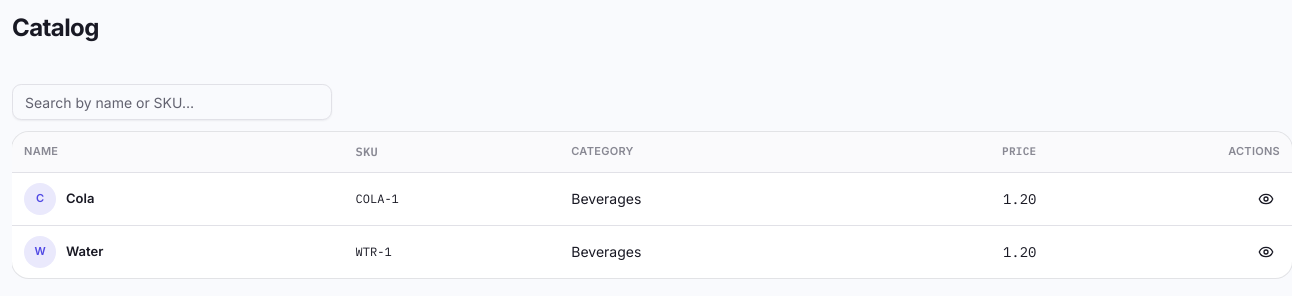
it: CatalogPage (staff, read-only list) › filters the list by name or SKU via client-side search
Expected: the text "Cola" is shown, [66,189,94,208]
In the field labelled "Search": (172, 102) [12,84,332,120], type "wtr"
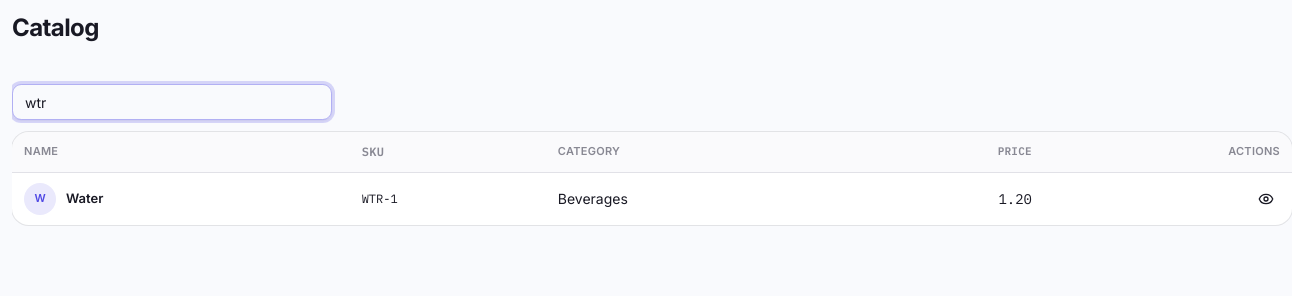
Expected: the text "Water" is shown, [66,189,103,208]
Now the text "Cola" is gone
